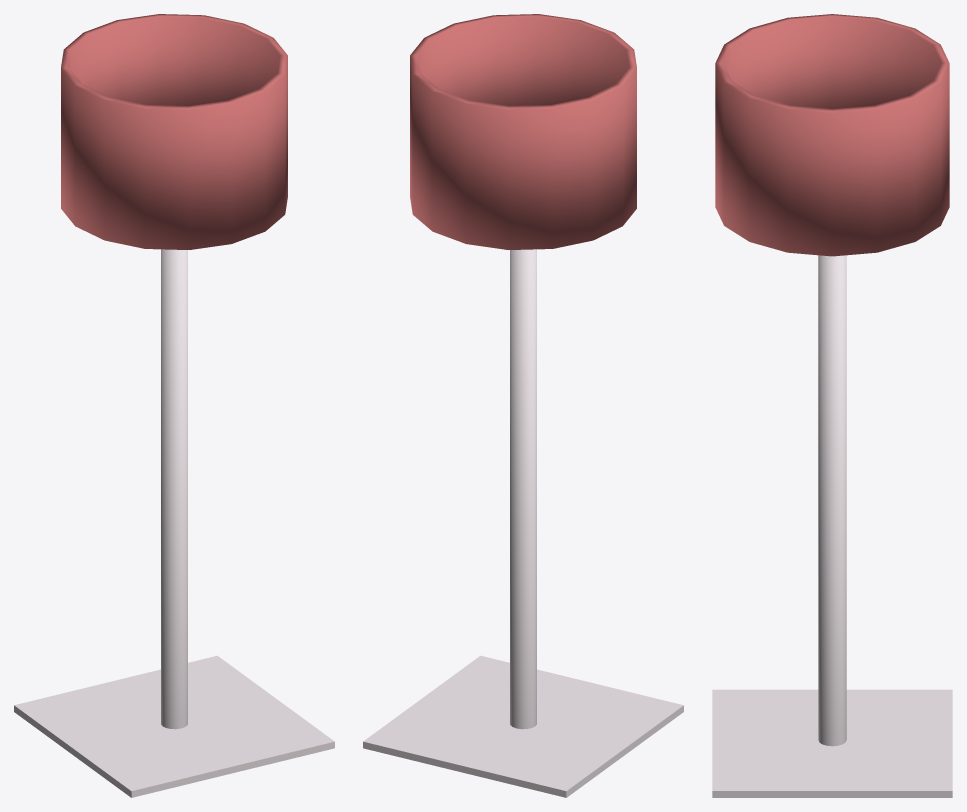
Rendered from Prop_HomeLamp_01.fbx.
The picture shows the model from 3 angles, left to right: view 1: azimuth 30°, elevation 25°; view 2: azimuth 150°, elevation 25°; view 3: azimuth 270°, elevation 25°; orthographic projection. The views are drawn at different scales.
Visible parts, largest first — view 1: Prop_HomeLamp_01; view 2: Prop_HomeLamp_01; view 3: Prop_HomeLamp_01.
Part boxes in pixels (x1,y1,x2,y2): Prop_HomeLamp_01: (14,14,334,797); Prop_HomeLamp_01: (363,14,683,797); Prop_HomeLamp_01: (712,14,952,797).
Size of the model in its own units: 50.94 by 160 by 50.94.
